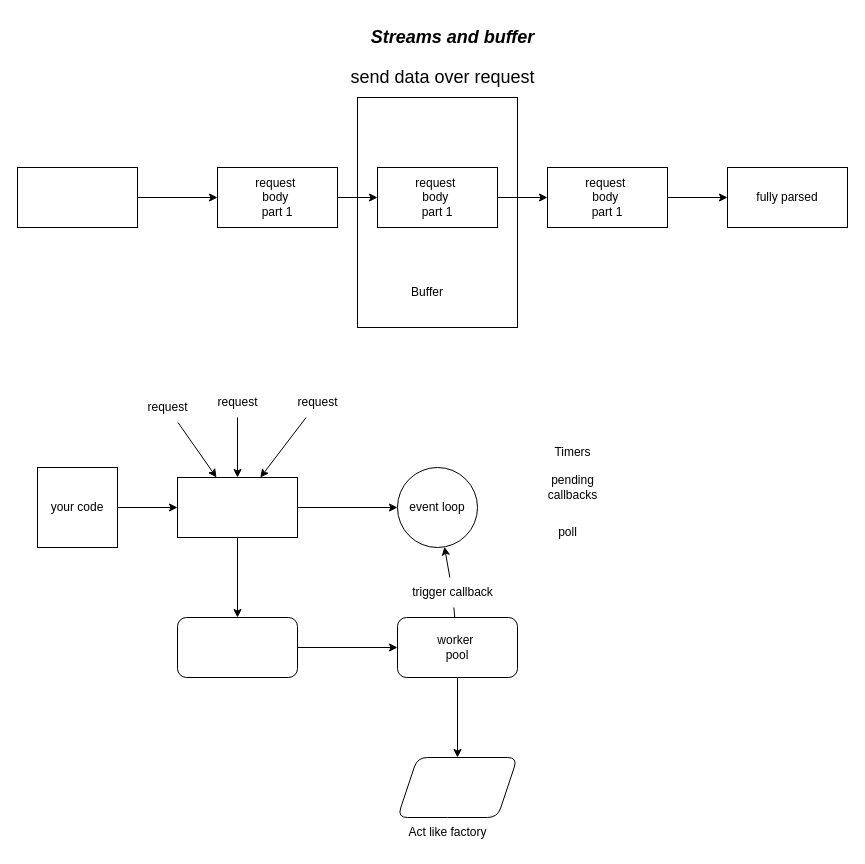
The diagram is 865 pixels wide and 864 high, and some of its shapes have lost their labels. Here are the shapes that lost their labels. From the top down, the centre of each, then its label:
the point at 77,197: Stream
the point at 237,507: Single thread
the point at 237,647: fs
the point at 457,787: Multiple threads handles file read/ write job
